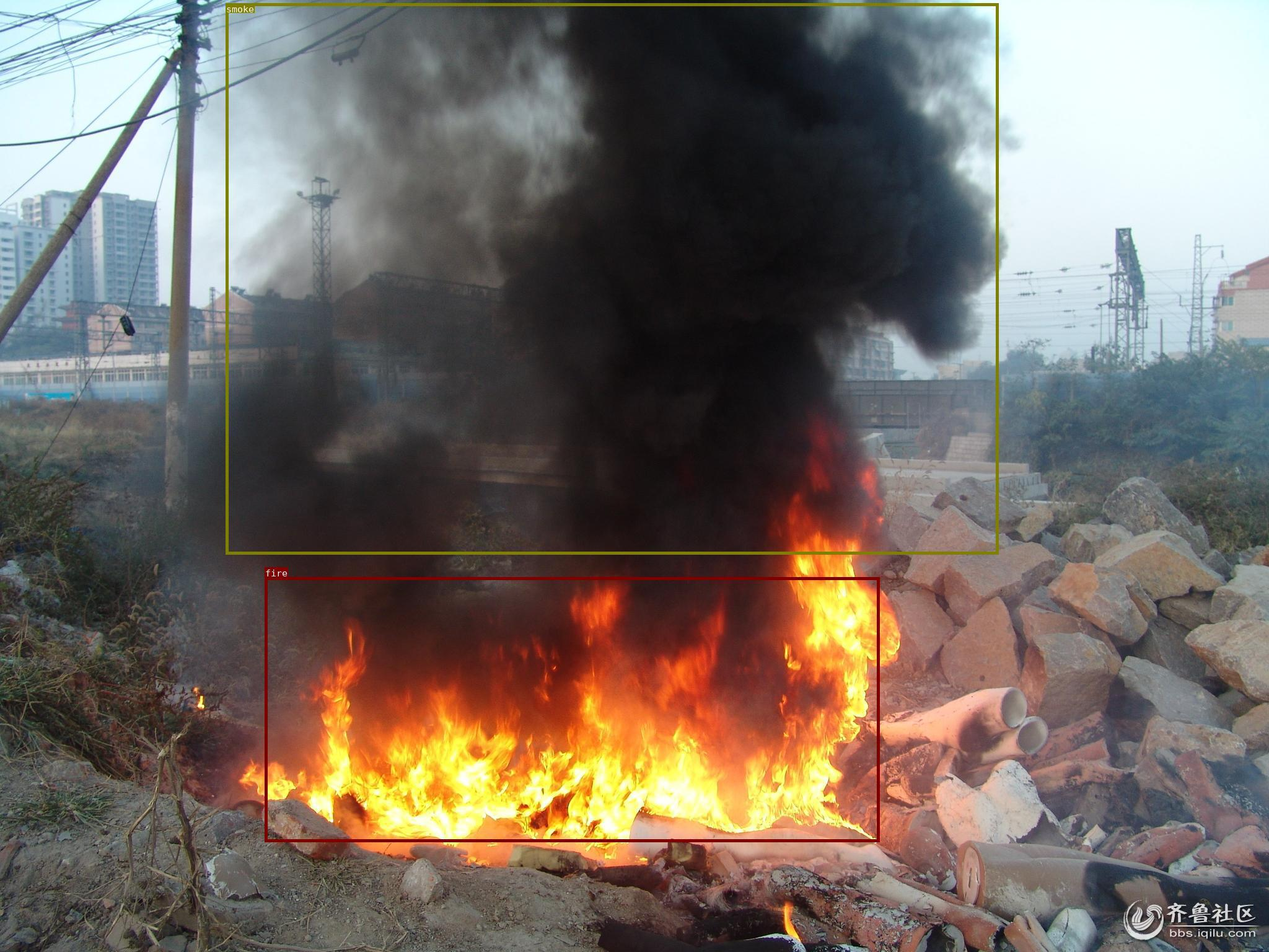fire: (264, 577, 879, 841)
smoke: (225, 3, 998, 553)
